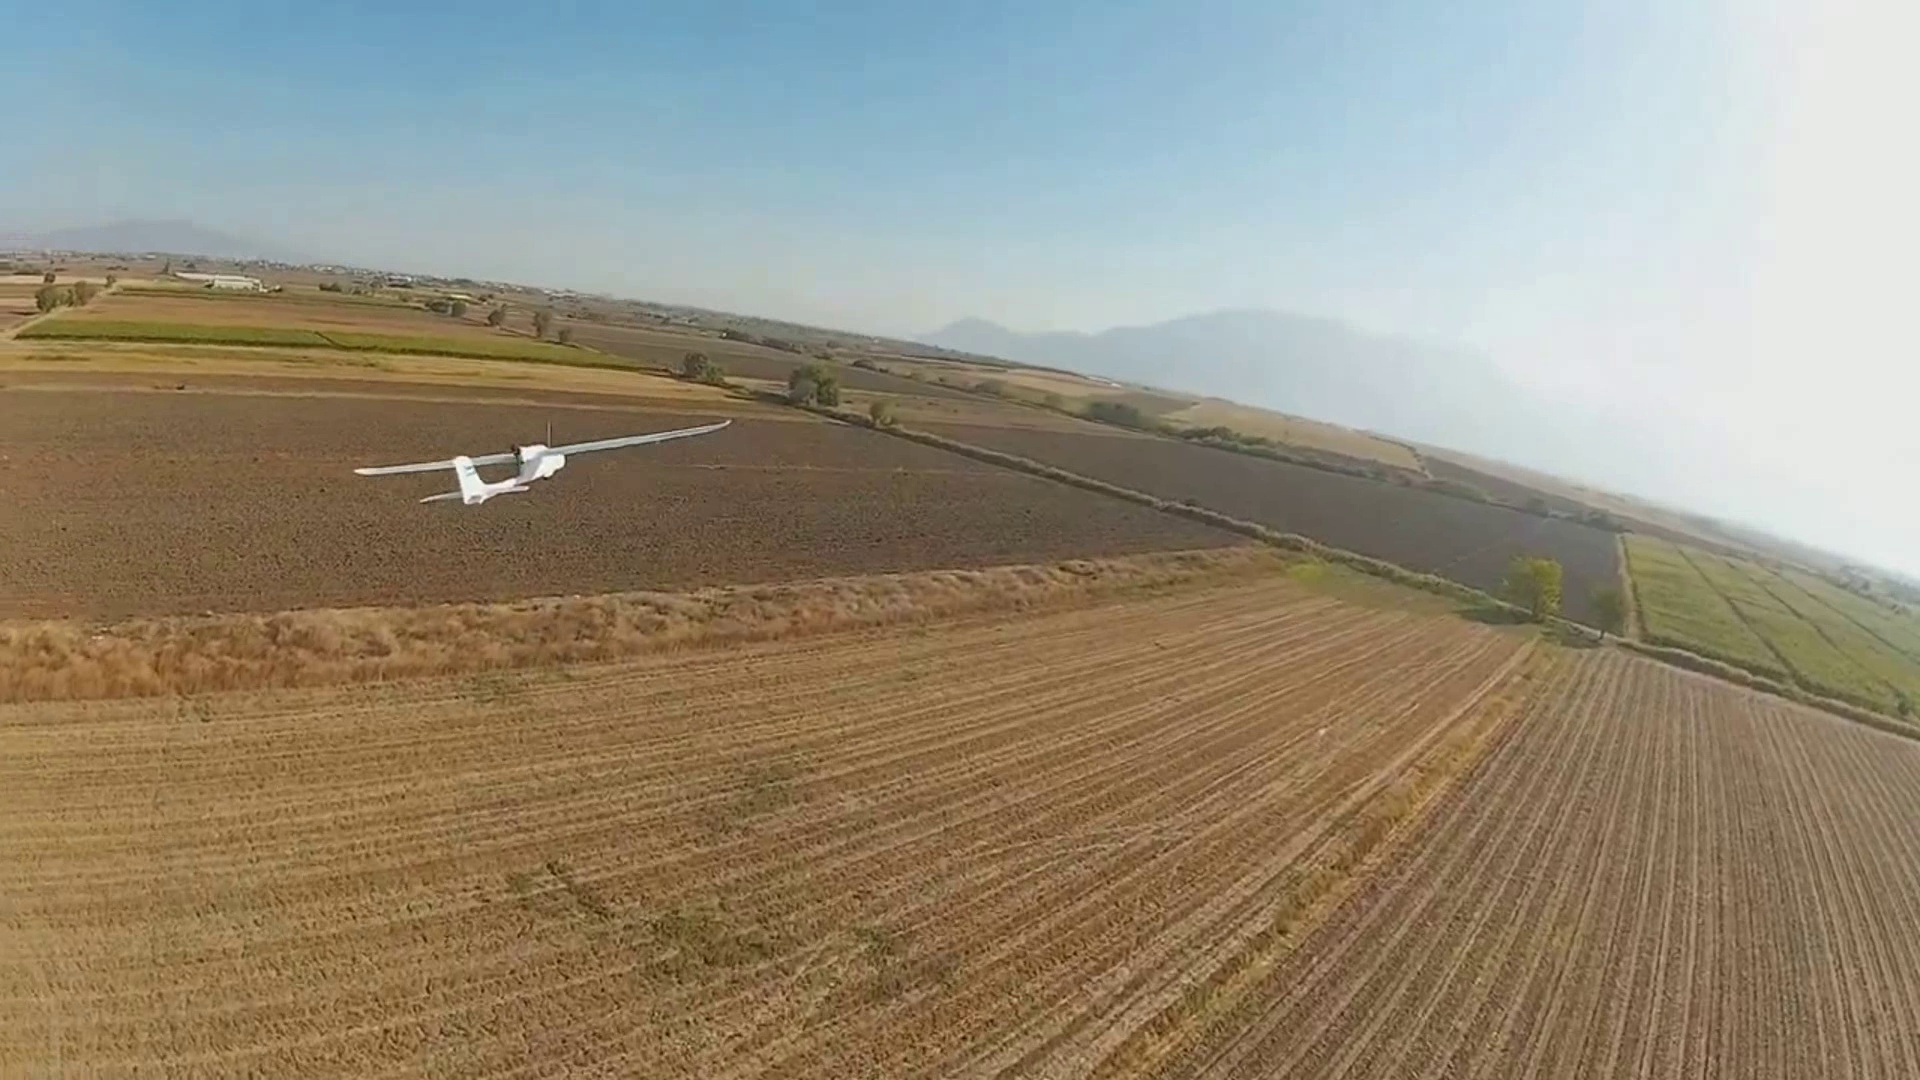airplane: (356, 413, 736, 506)
